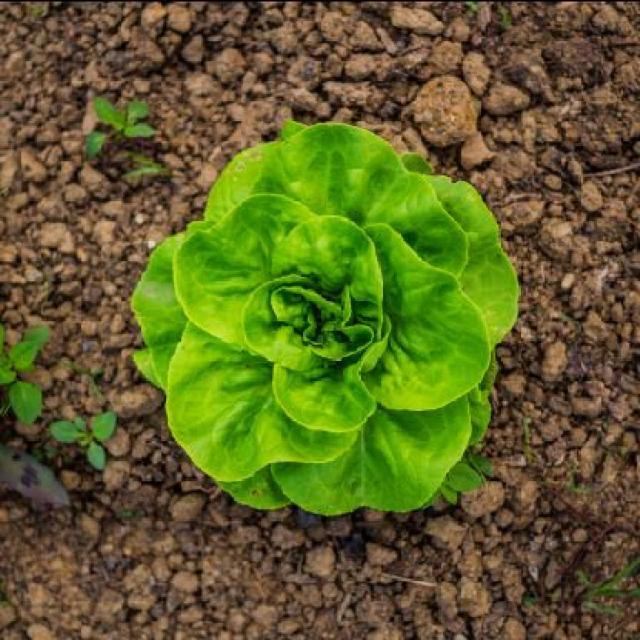Lettuce: (130, 121, 526, 523)
